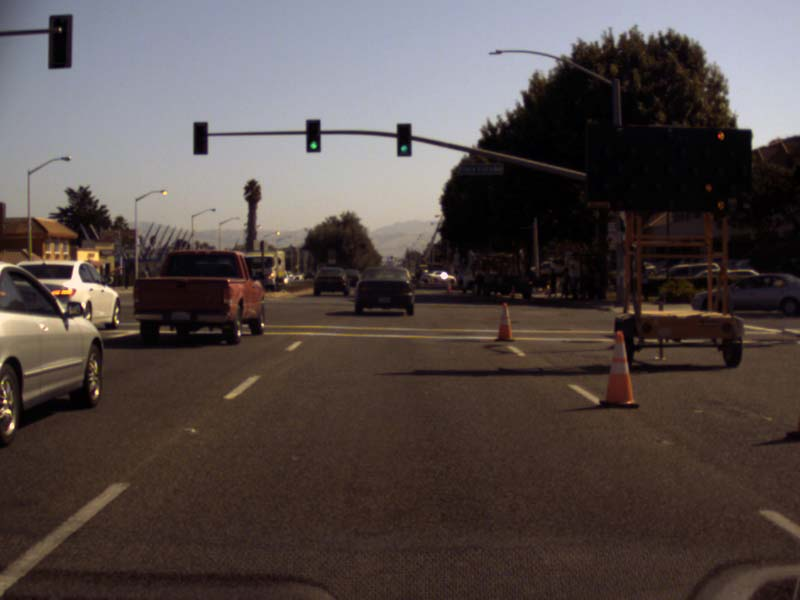Green: (306, 118, 320, 153), (397, 123, 411, 156)
